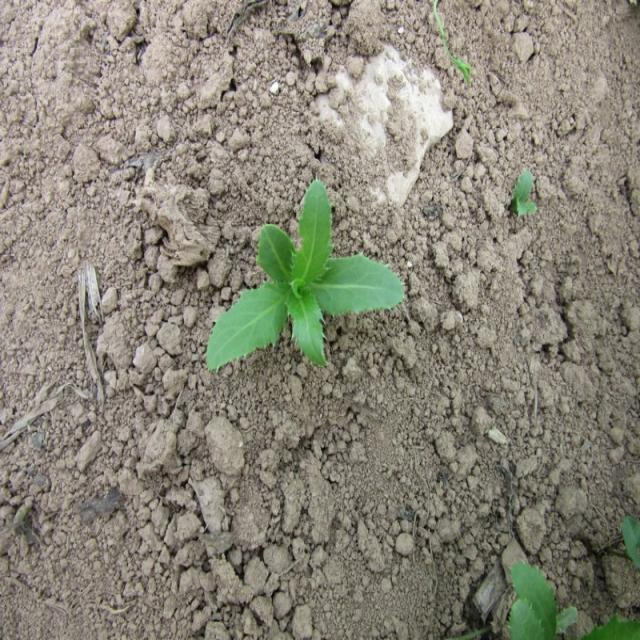field_thistle: (176, 171, 426, 389)
